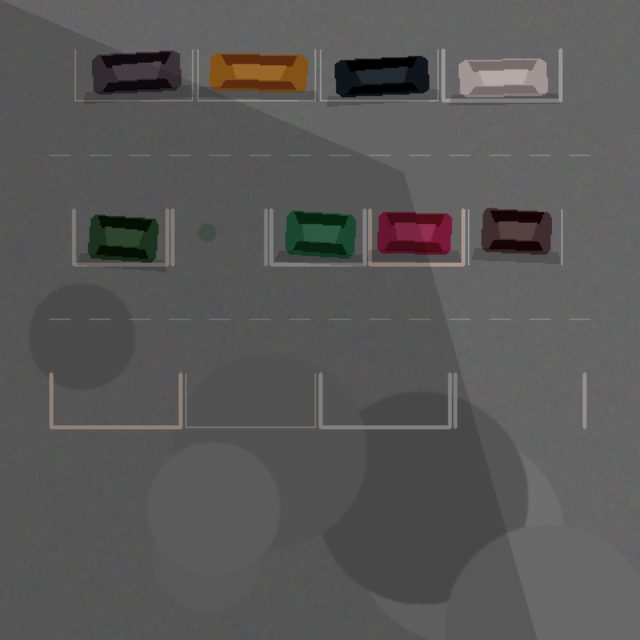space-empty: (185, 373, 315, 427), (51, 373, 180, 427), (320, 373, 449, 427), (455, 373, 584, 427), (172, 209, 265, 264)
space-occupied: (197, 49, 315, 100), (75, 49, 192, 100), (320, 49, 437, 100), (443, 49, 560, 100), (73, 209, 167, 264), (369, 209, 463, 264), (271, 209, 364, 264), (468, 209, 561, 264)
